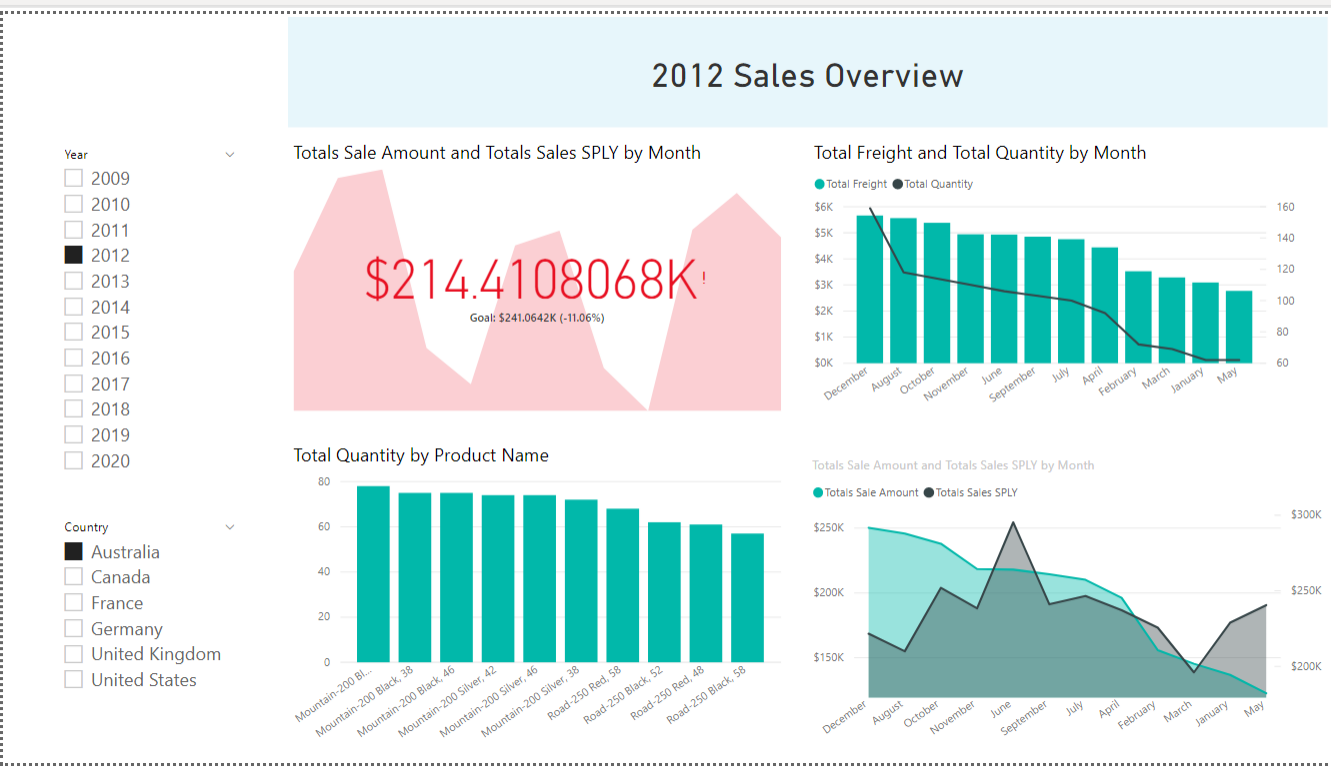

Layout of this report page (visuals, bound fields, positions):
{"tool":"powerbi","page":{"name":"overview2","canvas":[1280,720],"ordinal":1},"visuals":[{"type":"card","fields":{"Values":["Calendar.Year Title"]},"box":[273.9,3,997.9,106],"z":0},{"type":"kpi","fields":{"TrendLine":["Calendar.Month"],"Indicator":["InternetSales.Totals Sales Amount"],"Goal":["InternetSales.Totals Sales SPLY"]},"box":[273.6,121.6,478.4,265.6],"z":1},{"type":"lineStackedColumnComboChart","fields":{"Category":["Calendar.Month"],"Y2":["InternetSales.Total Quantity"],"Y":["InternetSales.Total Freight"]},"box":[772.8,121.6,472,265.6],"z":2},{"type":"columnChart","fields":{"Category":["Product.Category Hierarchy.Product Name"],"Y":["InternetSales.Total Quantity"]},"box":[273.6,411.2,478.4,296],"z":3},{"type":"areaChart","fields":{"Category":["Calendar.Month"],"Y":["InternetSales.Totals Sale Amount"],"Y2":["InternetSales.Totals Sales SPLY"]},"box":[772.5,424.1,499.9,282.1],"z":4},{"type":"slicer","fields":{"Values":["Calendar.Year"]},"box":[45.4,121.2,189.3,344.6],"z":5},{"type":"slicer","fields":{"Values":["Geography.Country"]},"box":[45.4,479.1,189.3,240.5],"z":6}]}

Visuals, with their boxes in screenshot pixels (x1, y1, x2, y2), scaled from the page's 1280x720 canvas onto the 1331x768 screenshot:
card - Calendar.Year Title: detection(285, 3, 1322, 116)
kpi - Calendar.Month x InternetSales.Totals Sales Amount: detection(285, 130, 782, 413)
lineStackedColumnComboChart - Calendar.Month x InternetSales.Total Quantity: detection(804, 130, 1294, 413)
columnChart - Product.Category Hierarchy.Product Name x InternetSales.Total Quantity: detection(285, 439, 782, 754)
areaChart - Calendar.Month x InternetSales.Totals Sale Amount: detection(803, 452, 1323, 753)
slicer - Calendar.Year: detection(47, 129, 244, 497)
slicer - Geography.Country: detection(47, 511, 244, 767)
